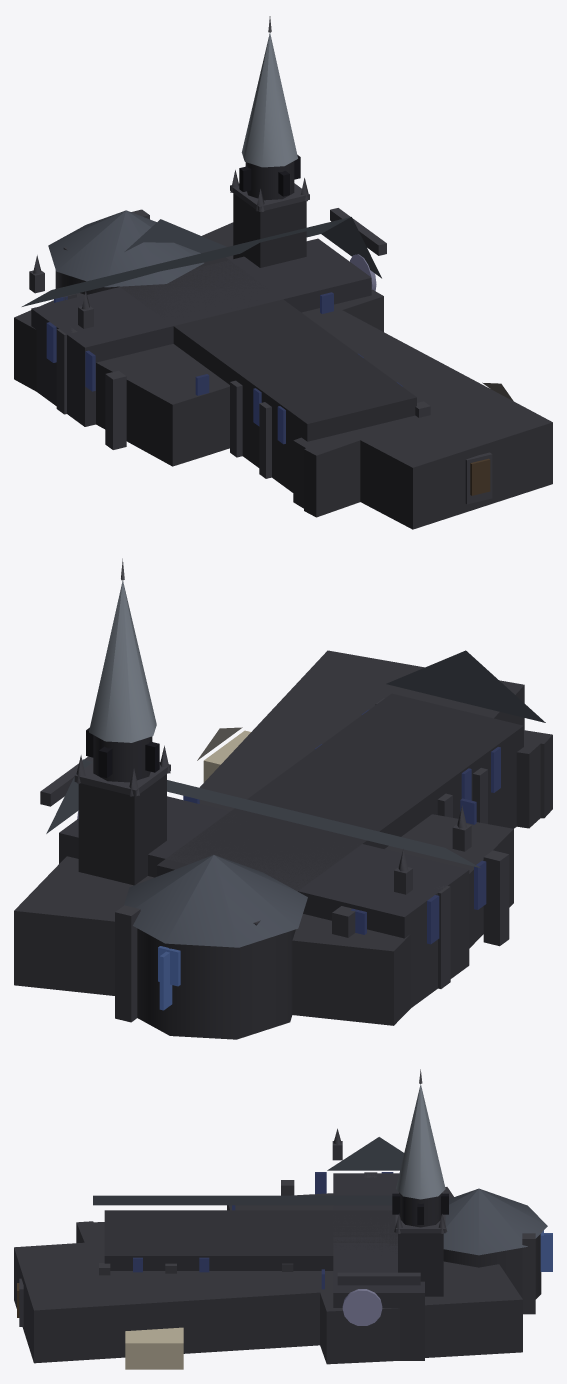
Rendered from eglise-3.glb.
3 views of the same model, one above another, from view 1: azimuth 30°, elevation 25°; view 2: azimuth 150°, elevation 25°; view 3: azimuth 270°, elevation 25° (orthographic). The views are drawn at different scales.
Parts seen in each view (by area): view 1: Église (édifice religieux) – Clermont-Ferrand; view 2: Église (édifice religieux) – Clermont-Ferrand; view 3: Église (édifice religieux) – Clermont-Ferrand.
Part boxes in pixels (bbox=[...]): Église (édifice religieux) – Clermont-Ferrand: bbox=[14, 16, 552, 529]; Église (édifice religieux) – Clermont-Ferrand: bbox=[14, 558, 552, 1039]; Église (édifice religieux) – Clermont-Ferrand: bbox=[14, 1069, 552, 1369].
Bounding box in the file's own units: 37.75 × 36 × 64.8.
